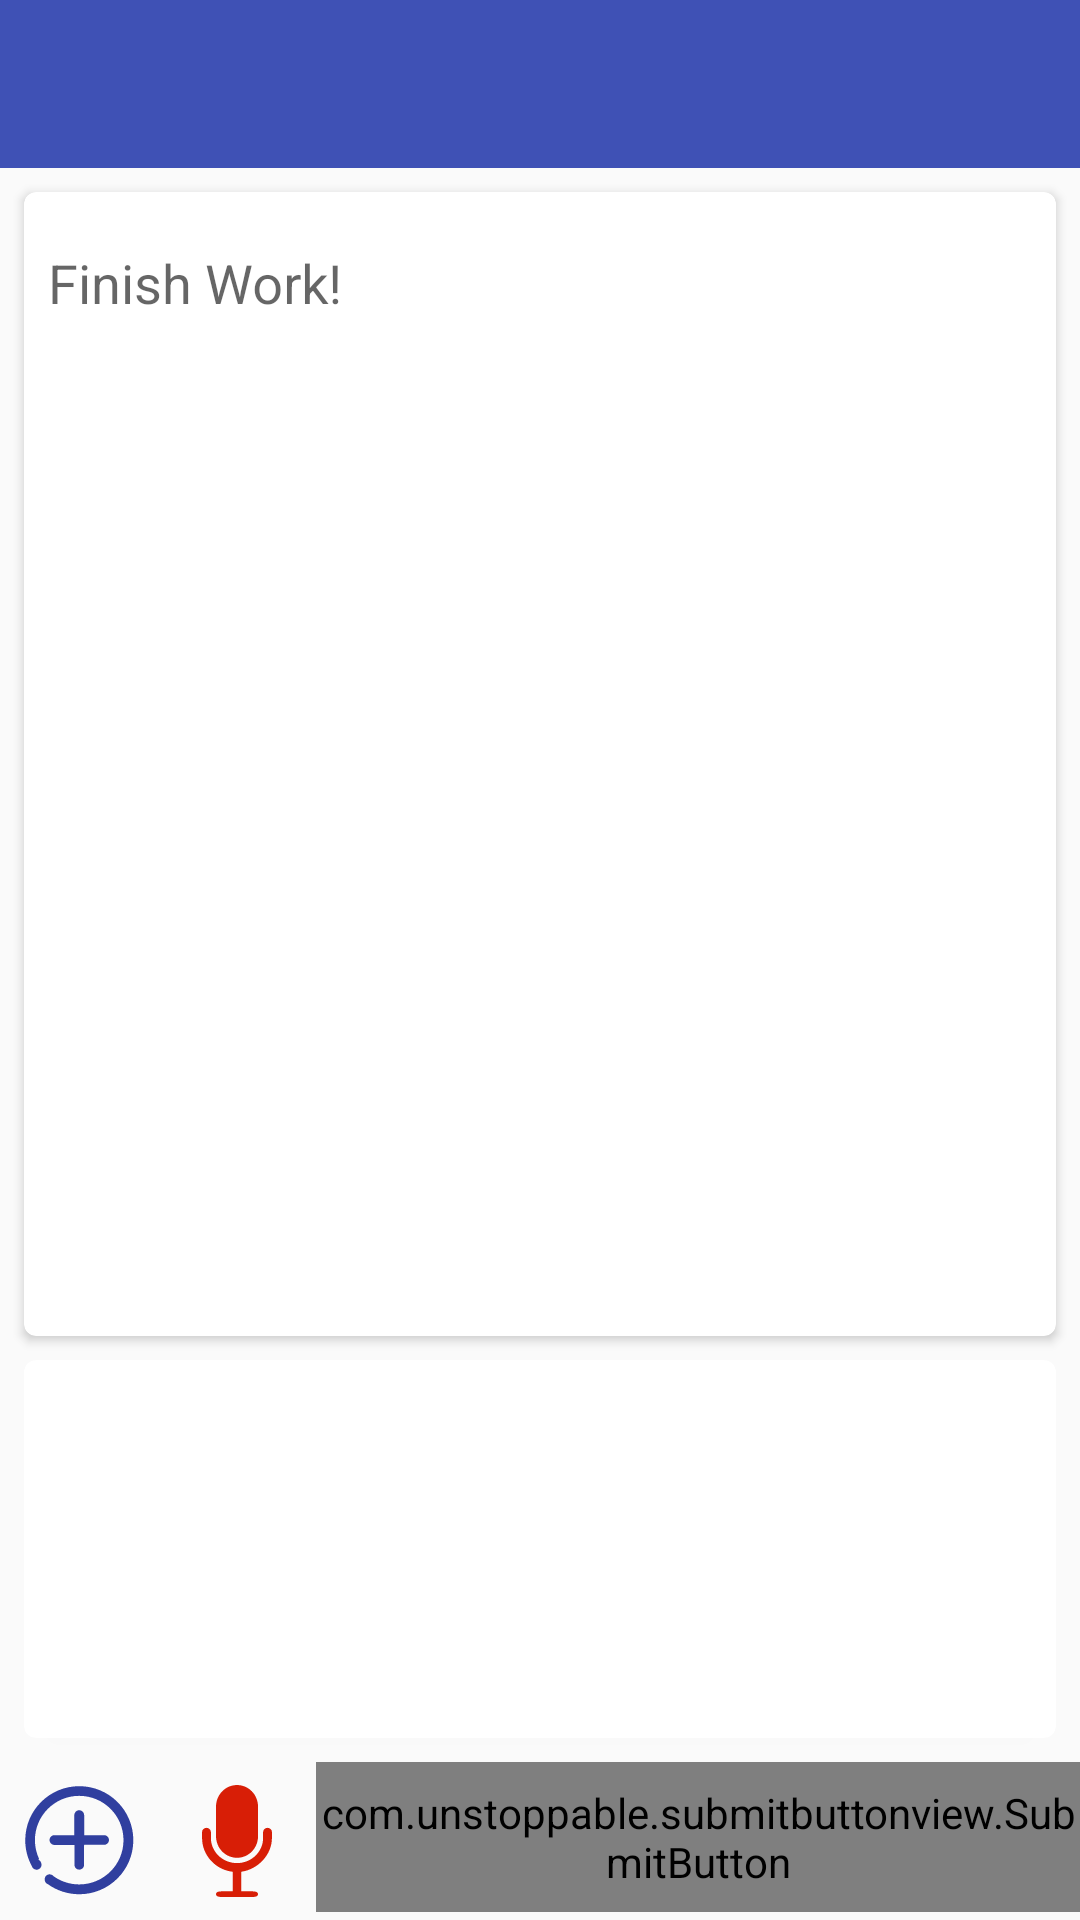

Icons on this 1080*1920 Android screen, each with the point to tap as (x,y):
add: (79,1840)
record: (237,1841)
